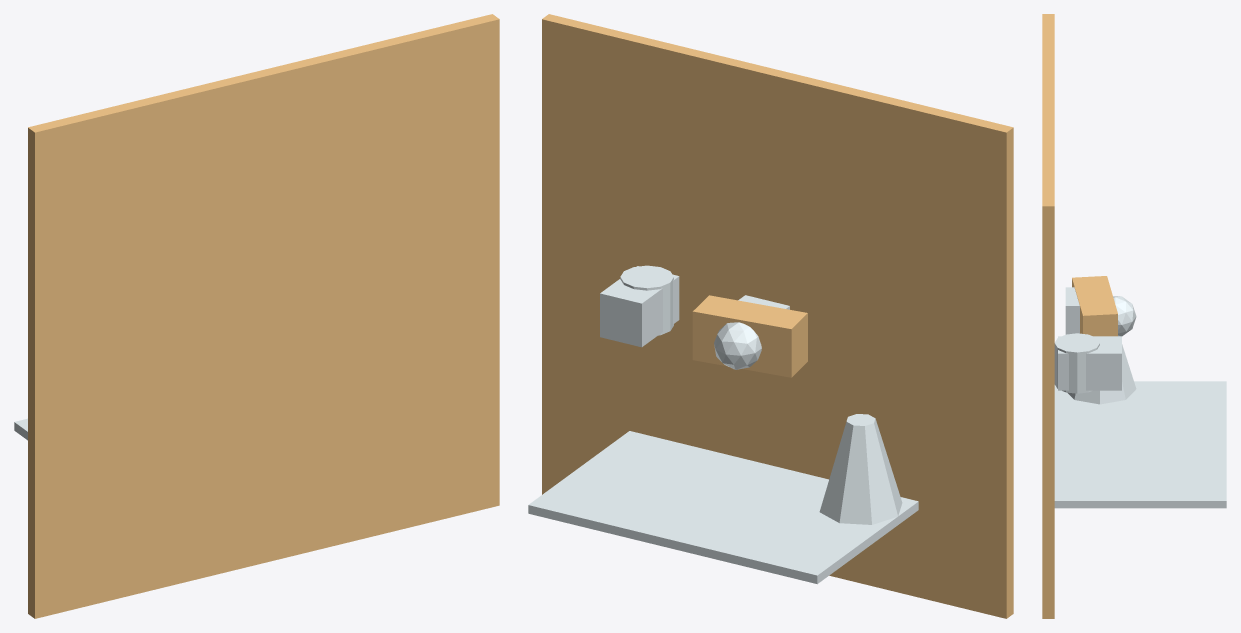
The model's file is championship-bowling-kit.glb.
3 renders of one model, left to right at view 1: azimuth 30°, elevation 25°; view 2: azimuth 150°, elevation 25°; view 3: azimuth 270°, elevation 25°, orthographic. The views are drawn at different scales.
Parts seen in each view (by area): view 1: ENVIRONMENT_GROUND; view 2: ENVIRONMENT_GROUND, ENVIRONMENT_GATE, PROFILE_ENVIRONMENT_DETAIL, PLAYER_BODY, PROFILE_OBSTACLE_DETAIL, PLAYER_CORE, OBSTACLE; view 3: ENVIRONMENT_GATE, ENVIRONMENT_GROUND, PLAYER_BODY, PROFILE_OBSTACLE_DETAIL, OBSTACLE, PROFILE_ENVIRONMENT_DETAIL, PROFILE_PLAYER_DETAIL, PLAYER_CORE.
Boxes of the visible parts, x1,y1,x2,y2 form: ENVIRONMENT_GROUND: (28, 14, 499, 618); ENVIRONMENT_GROUND: (542, 14, 1013, 618); ENVIRONMENT_GATE: (528, 431, 918, 584); PROFILE_ENVIRONMENT_DETAIL: (819, 414, 902, 524); PLAYER_BODY: (692, 295, 807, 377); PROFILE_OBSTACLE_DETAIL: (600, 266, 679, 347); PLAYER_CORE: (714, 322, 761, 369); OBSTACLE: (620, 265, 673, 335); ENVIRONMENT_GATE: (1054, 381, 1226, 508); ENVIRONMENT_GROUND: (1042, 14, 1054, 618); PLAYER_BODY: (1072, 276, 1117, 336); PROFILE_OBSTACLE_DETAIL: (1058, 336, 1121, 390); OBSTACLE: (1054, 333, 1099, 393); PROFILE_ENVIRONMENT_DETAIL: (1067, 344, 1136, 404); PROFILE_PLAYER_DETAIL: (1065, 287, 1079, 334); PLAYER_CORE: (1113, 296, 1136, 336).
Size of what is drawn, in the model's own units: 9 by 9 by 3.64.
